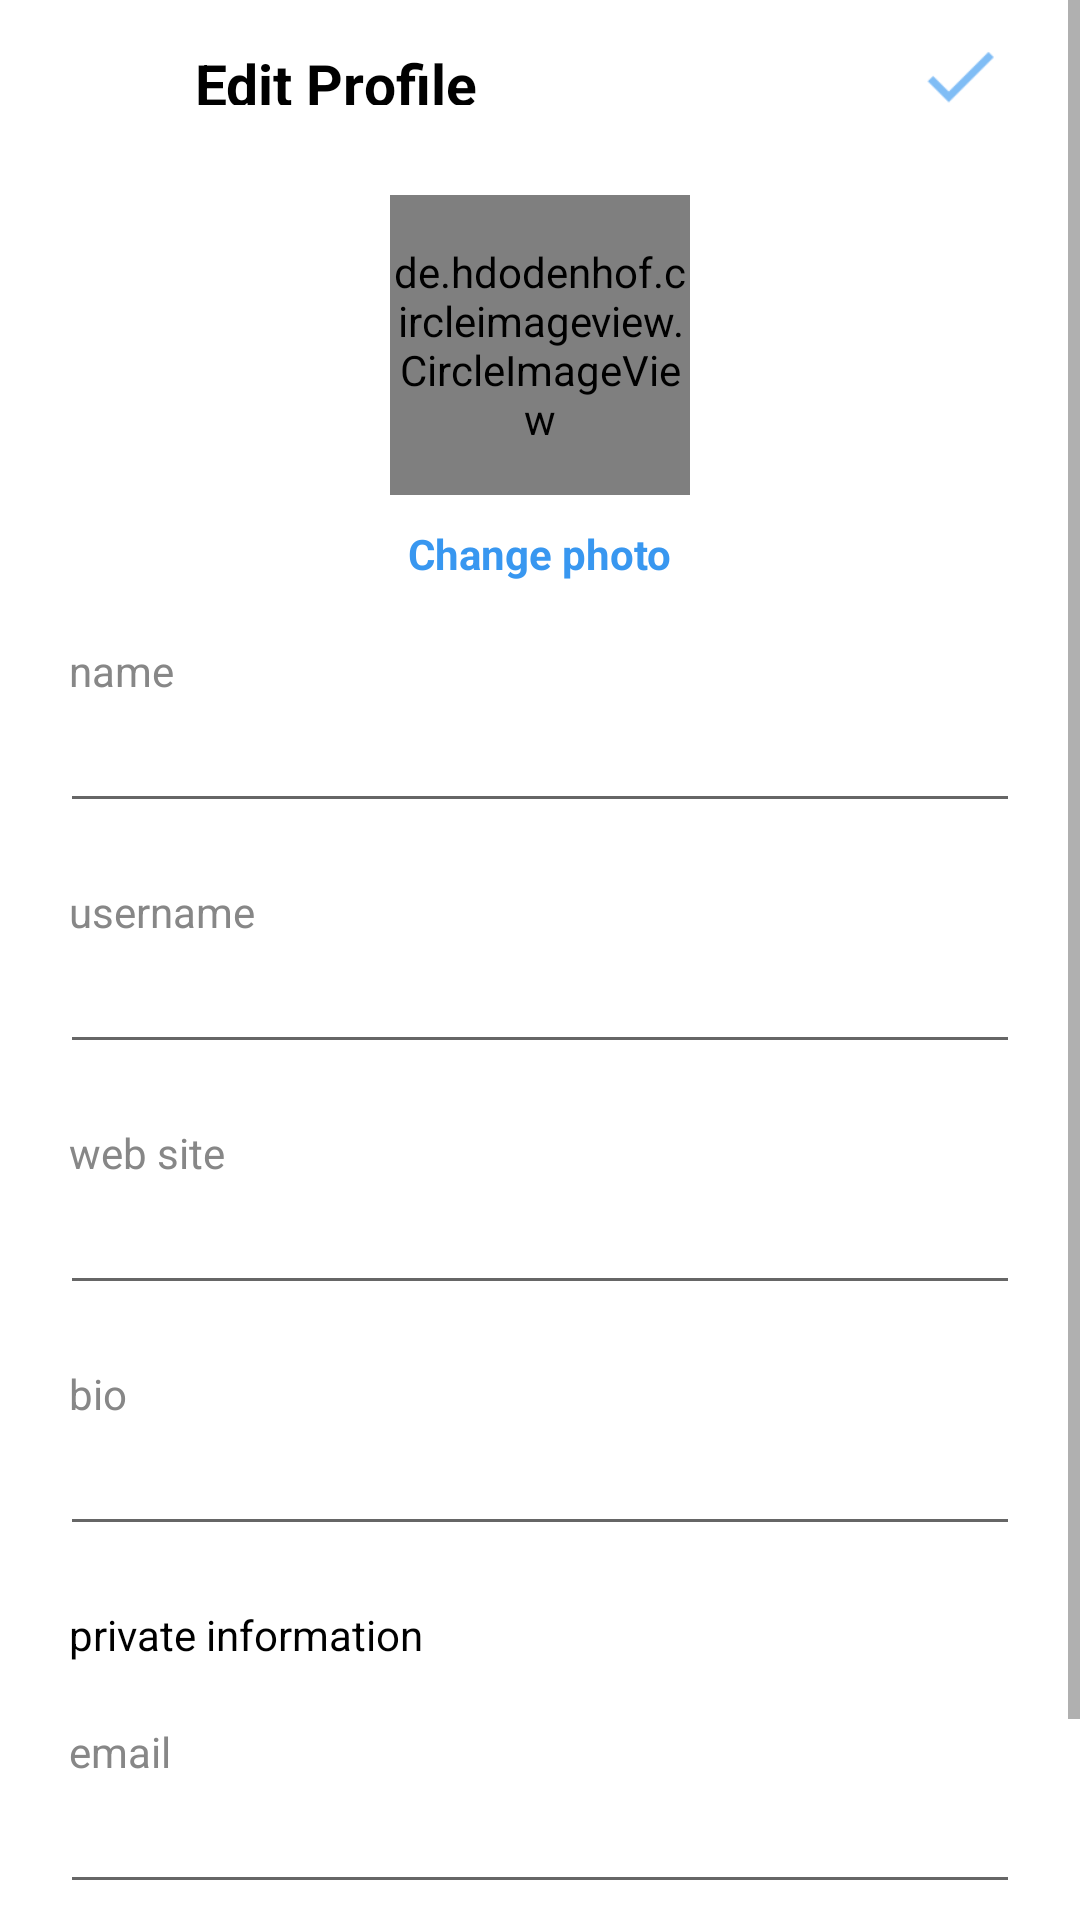

Icon click points for this 1080w x 1920h phone screenshot, format [x,y]:
check: [960,77]
